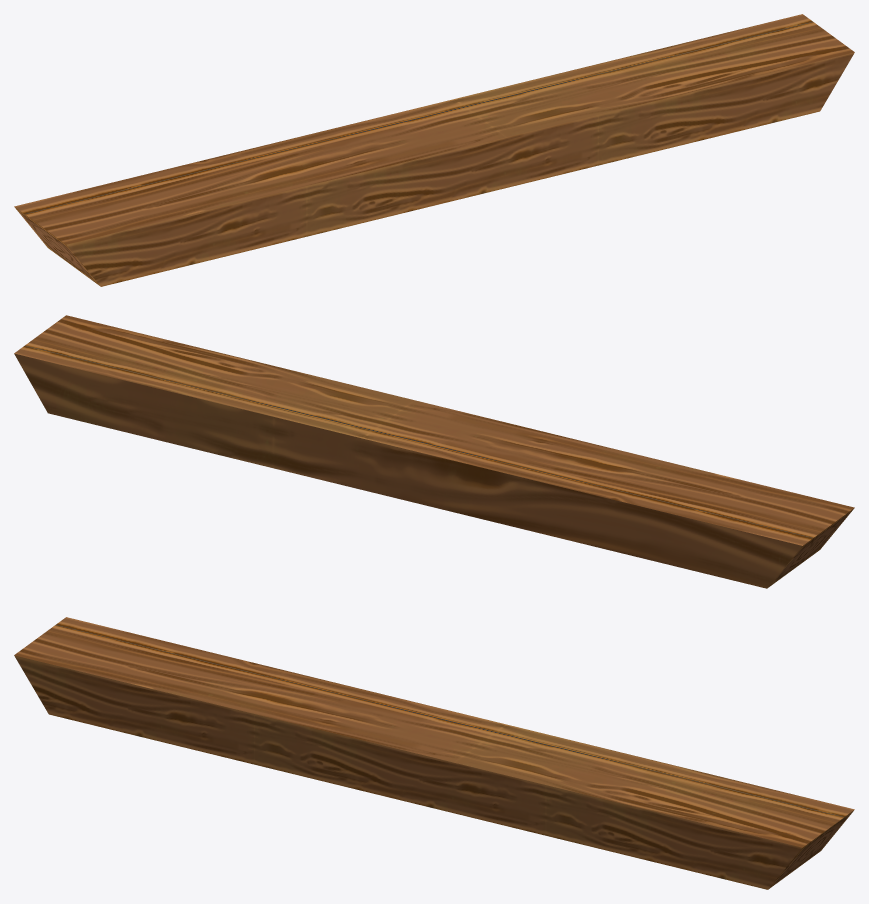
3 views of the same model, one above another, from view 1: azimuth 30°, elevation 25°; view 2: azimuth 150°, elevation 25°; view 3: azimuth 330°, elevation 25° (orthographic).
Visible parts, largest first — view 1: Cube.1395; view 2: Cube.1395; view 3: Cube.1395.
Part boxes in pixels (x1,y1,x2,y2): Cube.1395: (14,14,854,286); Cube.1395: (14,315,854,588); Cube.1395: (14,617,854,889).
Size of the model in its own units: 888 by 54.55 by 104.
1 material, 1 textured.
